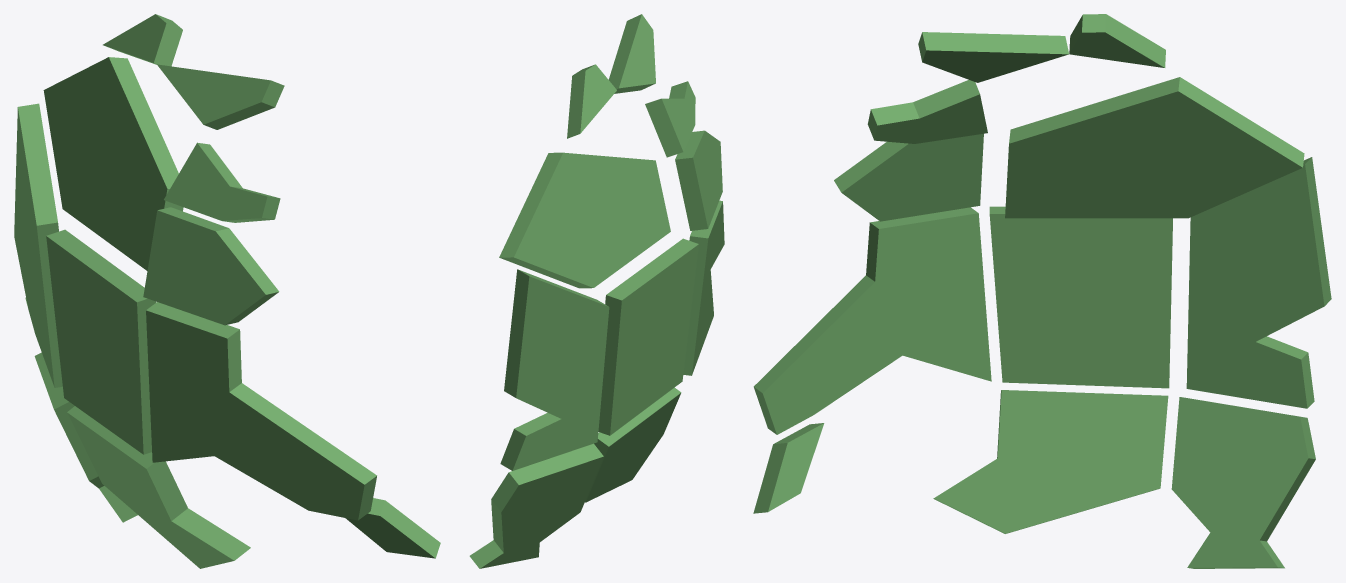
Rendered from cont2.fbx.
3 views of the same model, side by side, from view 1: azimuth 30°, elevation 25°; view 2: azimuth 150°, elevation 25°; view 3: azimuth 270°, elevation 25° (orthographic). The views are drawn at different scales.
Visible parts, largest first — view 1: C2_Country4_GEO, C2_Country3_GEO, C2_Country1_GEO, C2_Country5_GEO, C2_Country8_GEO, C2_Country2_GEO, C2_Country7_GEO, C2_Country6_GEO, C2_Country9_GEO, C2_Country10_GEO; view 2: C2_Country3_GEO, C2_Country2_GEO, C2_Country1_GEO, C2_Country10_GEO, C2_Country7_GEO, C2_Country8_GEO, C2_Country5_GEO, C2_Country4_GEO, C2_Country6_GEO; view 3: C2_Country3_GEO, C2_Country1_GEO, C2_Country4_GEO, C2_Country2_GEO, C2_Country8_GEO, C2_Country10_GEO, C2_Country5_GEO, C2_Country7_GEO, C2_Country6_GEO, C2_Country9_GEO.
Part boxes in pixels (left/top/right/bottom): C2_Country4_GEO: left=146, top=302, right=376, bottom=520; C2_Country3_GEO: left=43, top=57, right=183, bottom=270; C2_Country1_GEO: left=46, top=229, right=156, bottom=454; C2_Country5_GEO: left=143, top=207, right=279, bottom=325; C2_Country8_GEO: left=67, top=406, right=250, bottom=568; C2_Country2_GEO: left=14, top=103, right=62, bottom=387; C2_Country7_GEO: left=103, top=14, right=284, bottom=129; C2_Country6_GEO: left=164, top=142, right=280, bottom=222; C2_Country9_GEO: left=345, top=498, right=440, bottom=558; C2_Country10_GEO: left=34, top=352, right=137, bottom=522; C2_Country3_GEO: left=499, top=152, right=670, bottom=288; C2_Country2_GEO: left=500, top=269, right=609, bottom=470; C2_Country1_GEO: left=598, top=238, right=698, bottom=435; C2_Country10_GEO: left=469, top=443, right=603, bottom=568; C2_Country7_GEO: left=567, top=14, right=655, bottom=138; C2_Country8_GEO: left=585, top=387, right=681, bottom=502; C2_Country5_GEO: left=675, top=130, right=722, bottom=230; C2_Country4_GEO: left=683, top=200, right=724, bottom=375; C2_Country6_GEO: left=645, top=81, right=695, bottom=157; C2_Country3_GEO: left=1005, top=77, right=1304, bottom=218; C2_Country1_GEO: left=989, top=206, right=1172, bottom=388; C2_Country4_GEO: left=753, top=207, right=991, bottom=434; C2_Country2_GEO: left=1186, top=157, right=1331, bottom=408; C2_Country8_GEO: left=933, top=390, right=1168, bottom=533; C2_Country10_GEO: left=1171, top=397, right=1315, bottom=568; C2_Country5_GEO: left=834, top=133, right=983, bottom=221; C2_Country7_GEO: left=918, top=14, right=1165, bottom=82; C2_Country6_GEO: left=867, top=80, right=987, bottom=143; C2_Country9_GEO: left=753, top=423, right=824, bottom=513.
Bounding box in the file's own units: 333 × 882 × 841.
